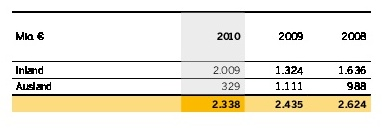table: (0, 0, 382, 129)
